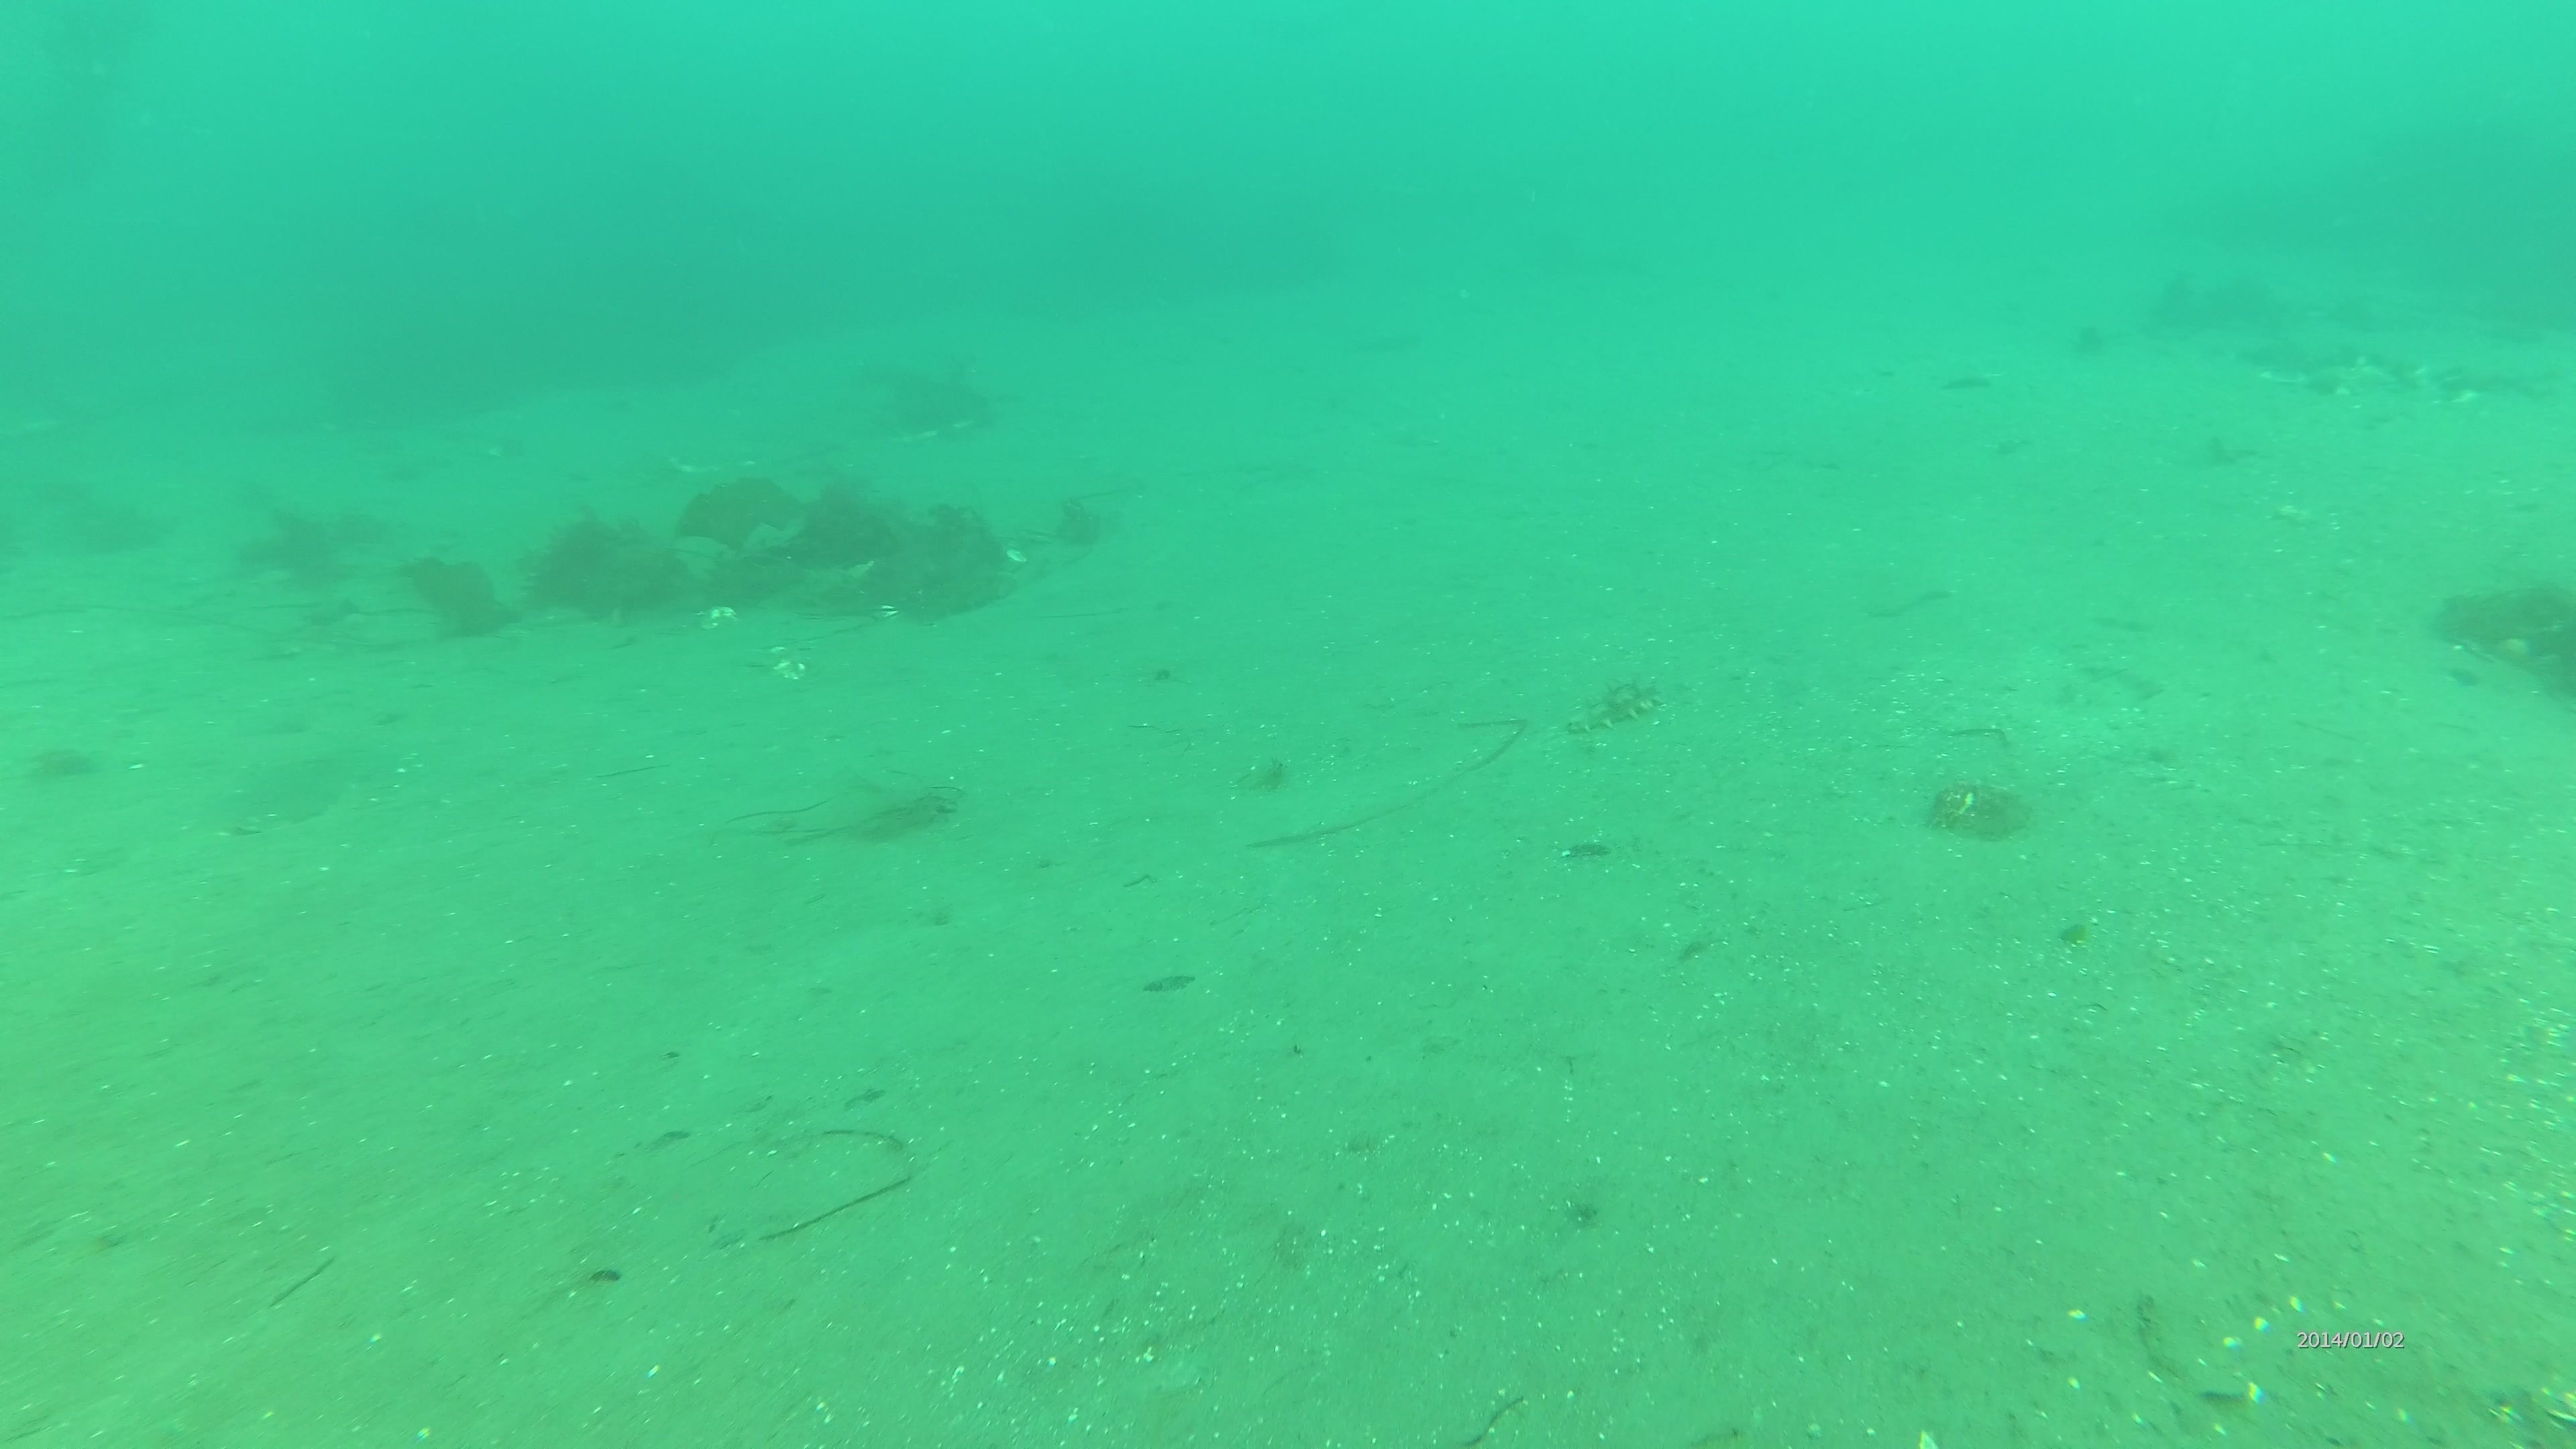holothurian: (1568, 667, 1665, 740)
